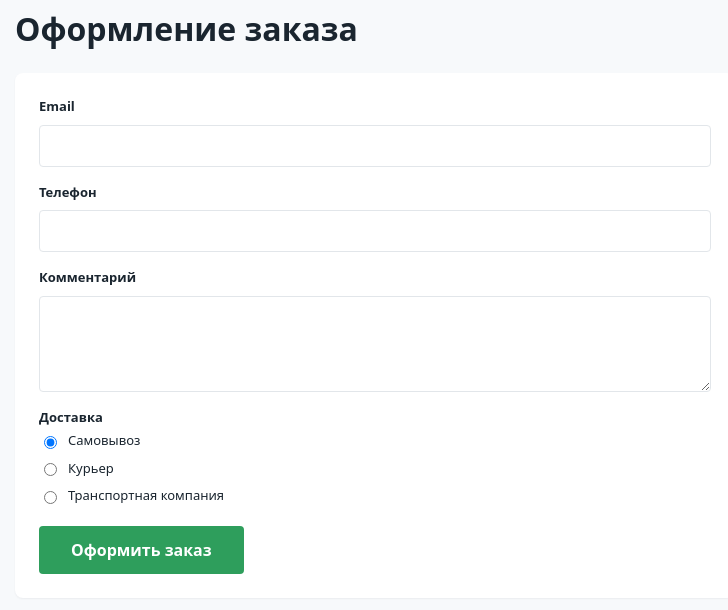
Test: CheckoutPage › failed submit shows error and keeps cart
In the field labelled "Email": (375, 146) 39,124 -> 711,166, type "a@b.co"
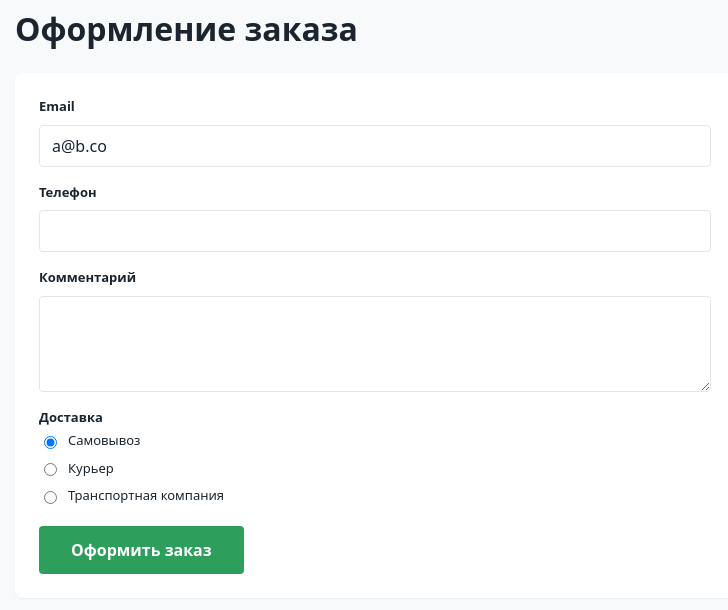
In the field labelled "Телефон": (375, 231) 39,210 -> 711,252, type "+71234567890"
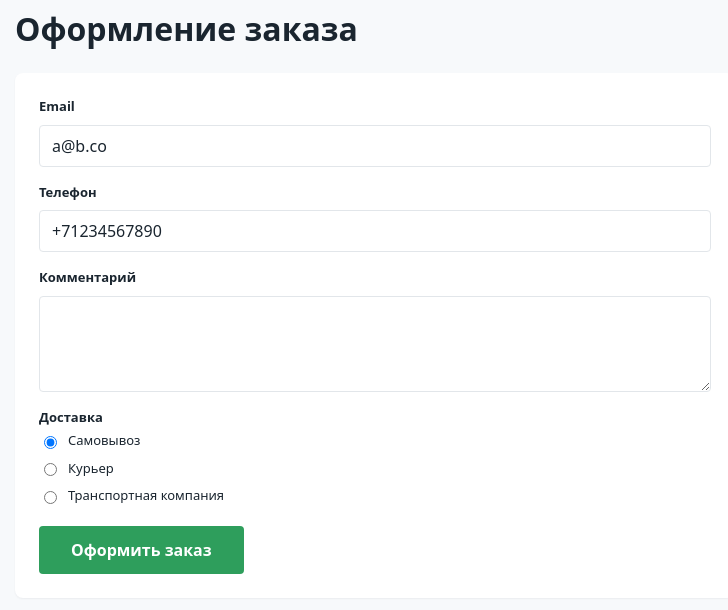
Click the button "Оформить заказ": (141, 550) 39,526 -> 244,574
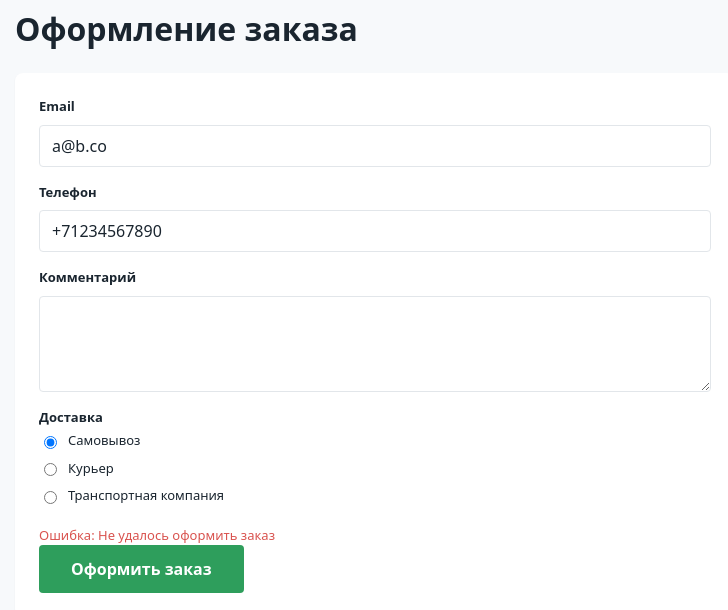
expect the text "Ошибка: Не удалось оформить заказ" is shown: met, box 39,526 -> 275,544
